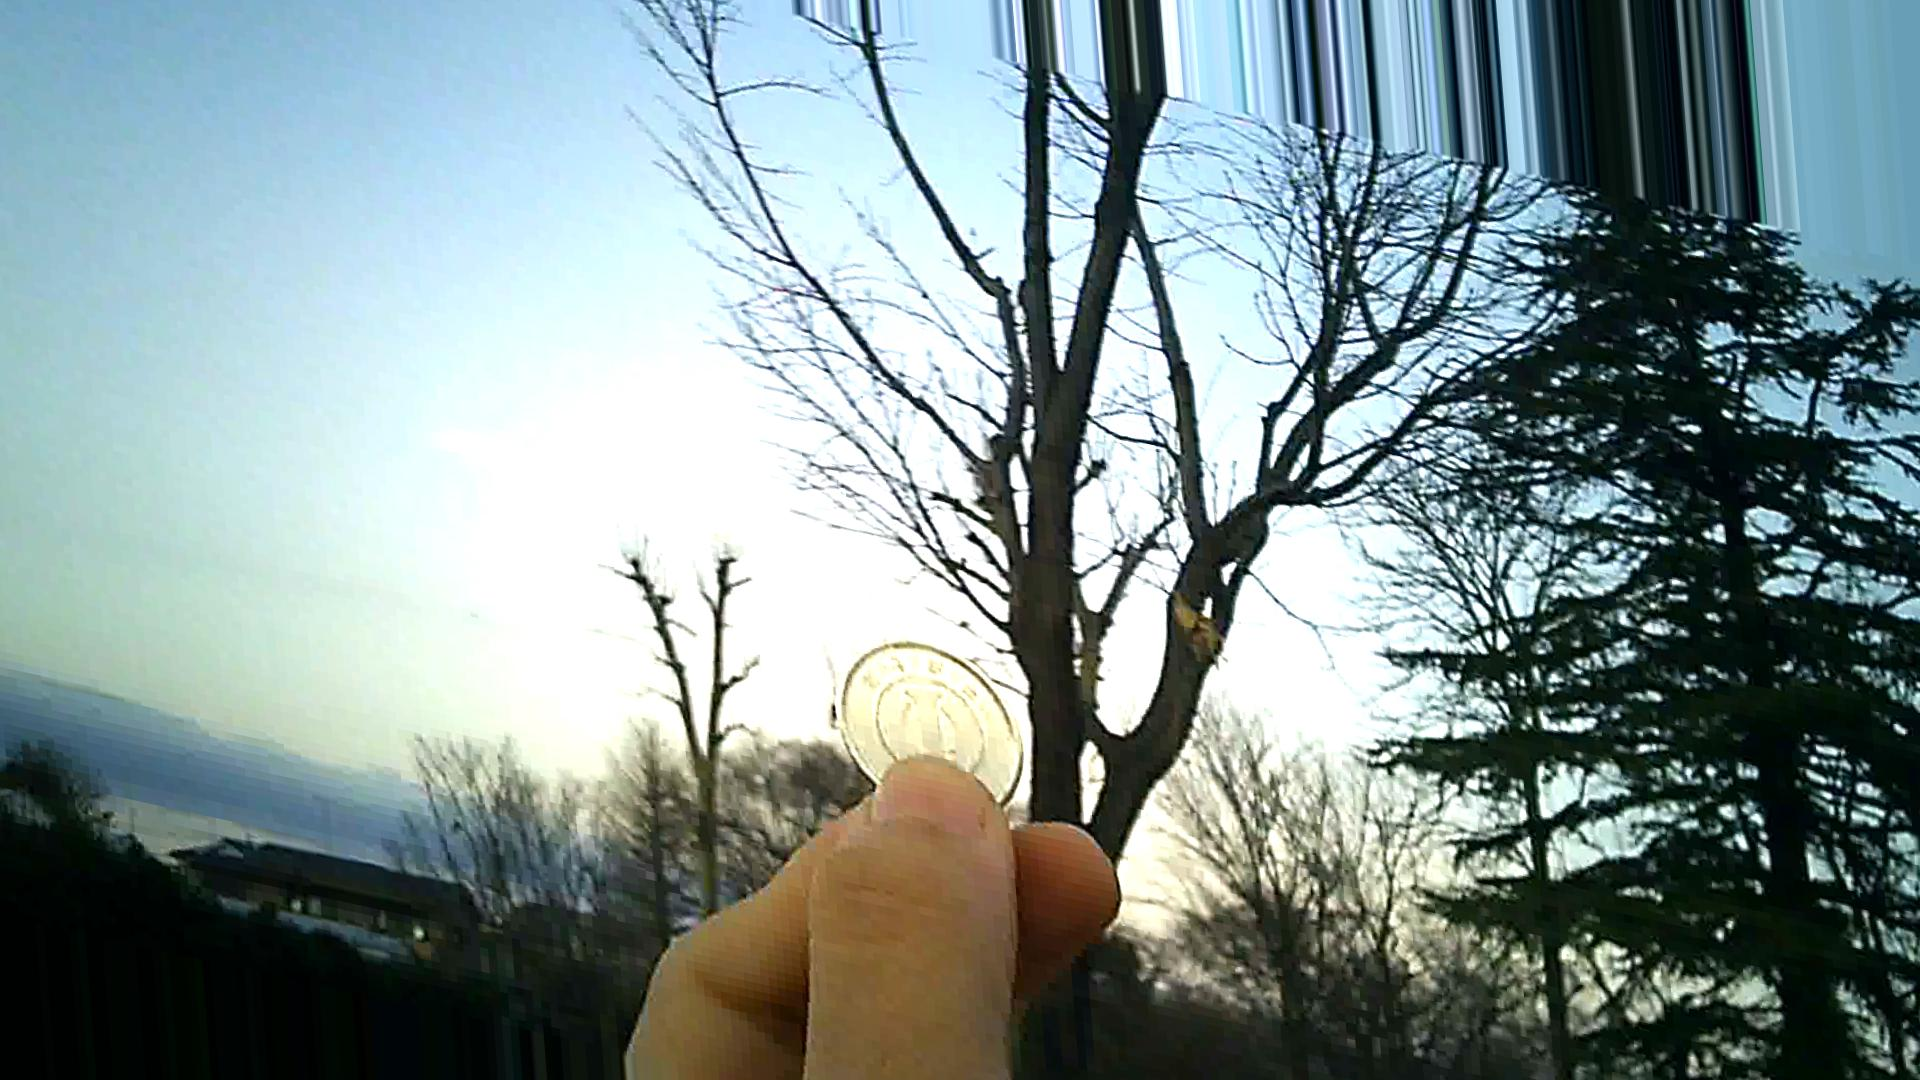1 Yen: (829, 611, 1035, 824)
